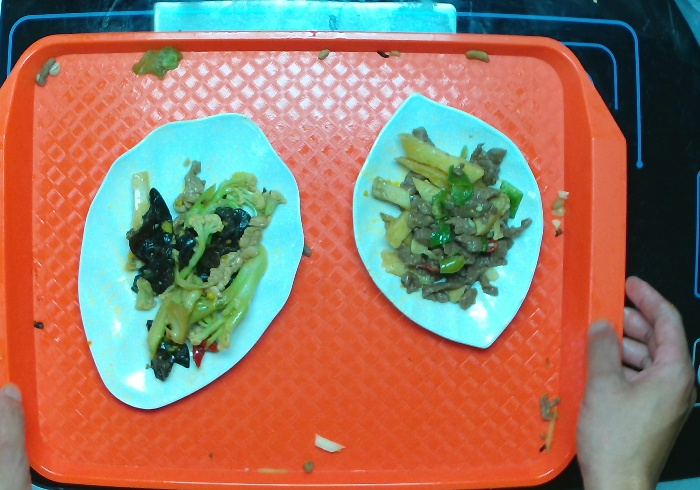RJxy-Bai_Ye_Pan: (69, 113, 307, 414)
RJxy-Da_Du_Pan: (347, 88, 549, 357)
